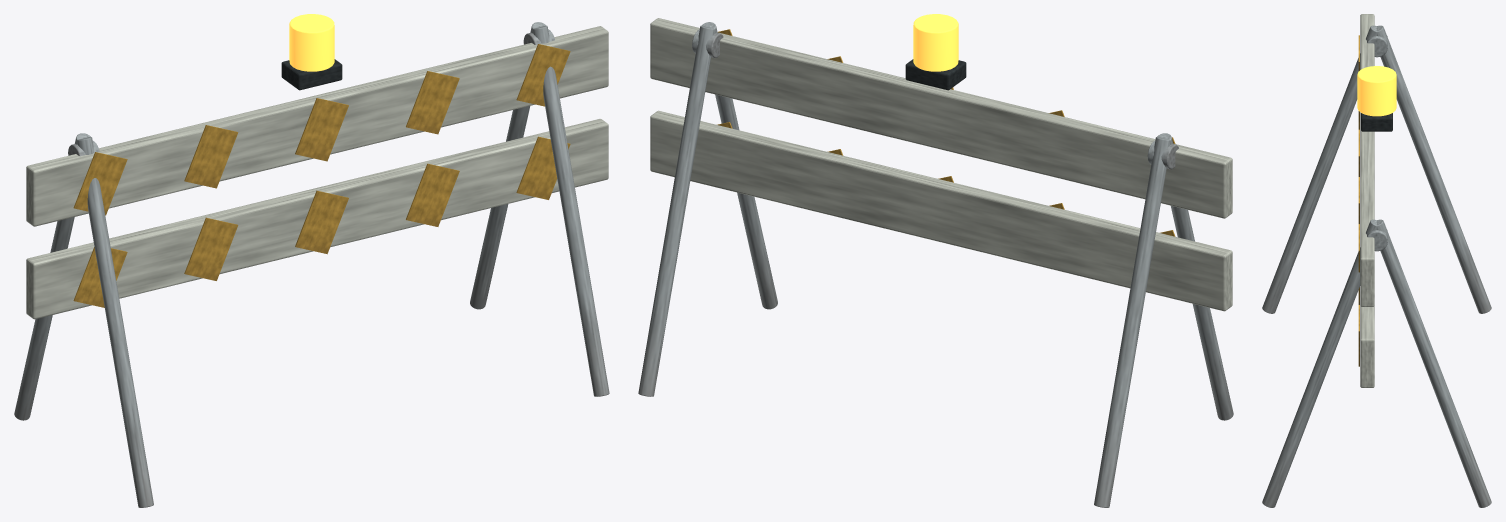
The model's file is GR_FoldingBarricade_03.glb.
The picture shows the model from 3 angles, left to right: view 1: azimuth 30°, elevation 25°; view 2: azimuth 150°, elevation 25°; view 3: azimuth 270°, elevation 25°; orthographic projection. The views are drawn at different scales.
Visible parts, largest first — view 1: Static; view 2: Static; view 3: Static.
Boxes of the visible parts, bbox=[...] form: Static: bbox=[14, 14, 609, 507]; Static: bbox=[638, 14, 1233, 507]; Static: bbox=[1262, 14, 1491, 507].
Bounding box in the file's own units: 1.82 × 1.16 × 0.7199.
2 materials, 2 textured.
